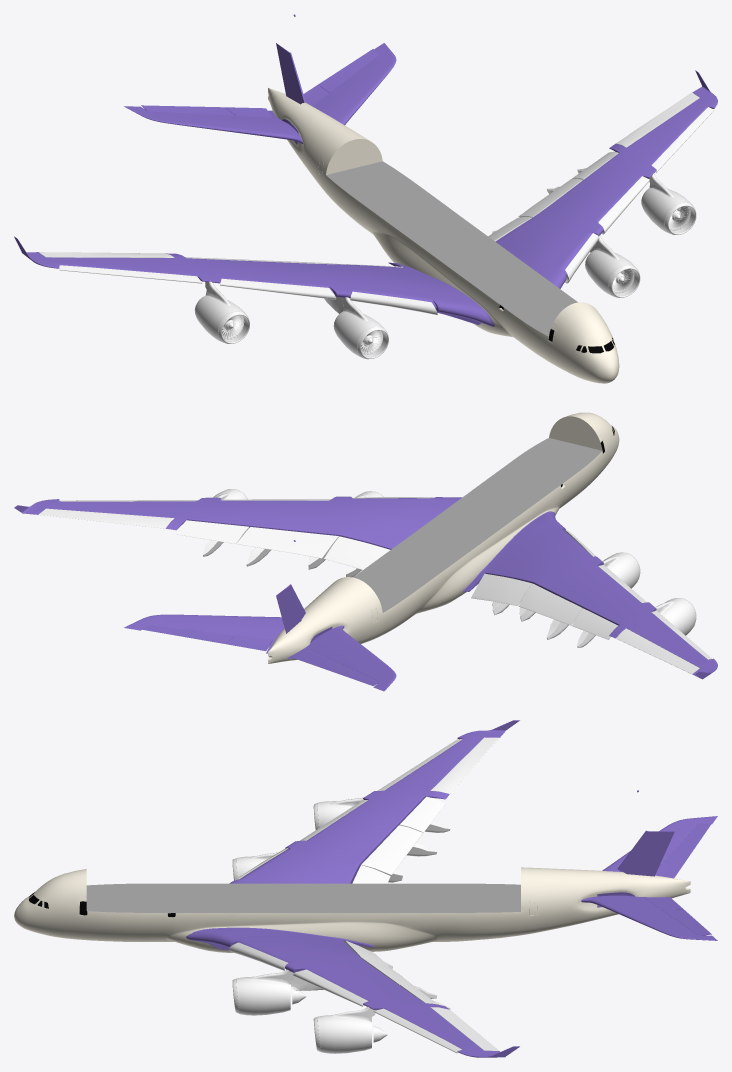
File: wingcol-airplane.obj
3 views of the same model, one above another, from view 1: azimuth 30°, elevation 25°; view 2: azimuth 150°, elevation 25°; view 3: azimuth 270°, elevation 25° (orthographic).
Visible parts, largest first — view 1: 11803_Airplane_v1_l1; view 2: 11803_Airplane_v1_l1; view 3: 11803_Airplane_v1_l1.
Boxes of the visible parts, x1,y1,x2,y2 form: 11803_Airplane_v1_l1: (14, 14, 717, 383); 11803_Airplane_v1_l1: (14, 412, 717, 691); 11803_Airplane_v1_l1: (14, 720, 717, 1057).
Size of the model in its own units: 39 by 9.11 by 35.56.
